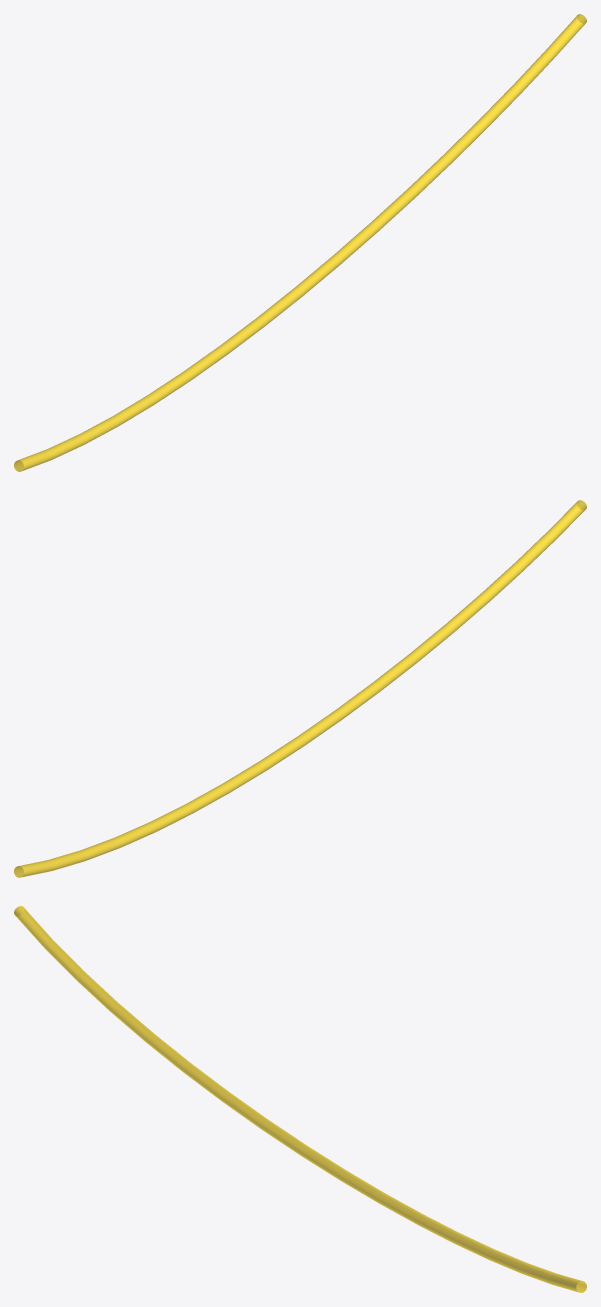
File: Event_40932208_track_15.fbx
The picture shows the model from 3 angles, top to bottom: view 1: azimuth 30°, elevation 25°; view 2: azimuth 210°, elevation 25°; view 3: azimuth 270°, elevation 25°; orthographic projection.
Visible parts, largest first — view 1: Model; view 2: Model; view 3: Model.
Boxes of the visible parts, x1,y1,x2,y2 form: Model: (14, 14, 586, 471); Model: (14, 500, 586, 877); Model: (14, 906, 586, 1292).
Size of the model in its own units: 3.3 by 0.3119 by 1.91.
